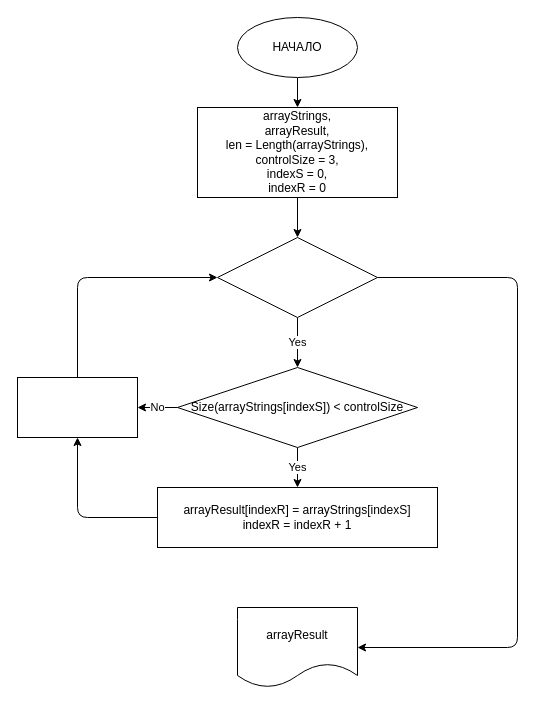
Image size: 543x705. Some labels were removed from this diagram. The shapes that lost their labels are listed below. From the top down, each one's box as (x1, y1, x2, y2) in pixels, then its label:
(216, 236, 378, 318): indexS < len
(16, 376, 138, 438): indexS = indexS + 1
